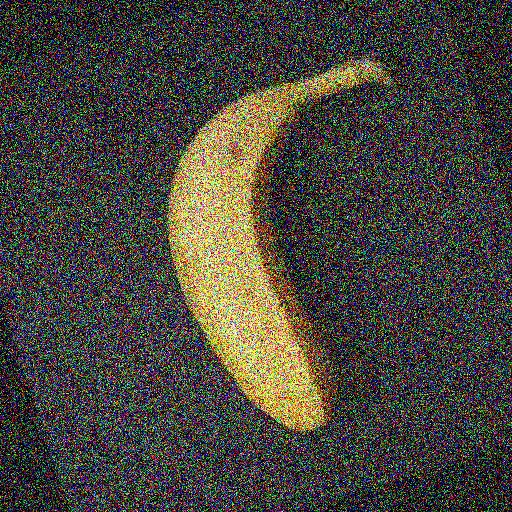fruit: (51, 125, 341, 512)
